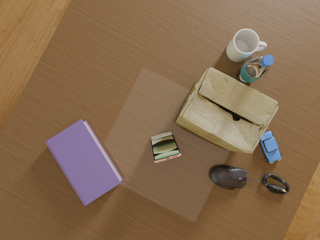book: (46, 119, 123, 206)
bottle: (237, 55, 274, 85)
box: (175, 67, 279, 154)
cup: (227, 29, 266, 62)
mouse: (210, 165, 248, 189)
phone: (151, 135, 181, 163)
toy_car: (259, 131, 281, 163)
